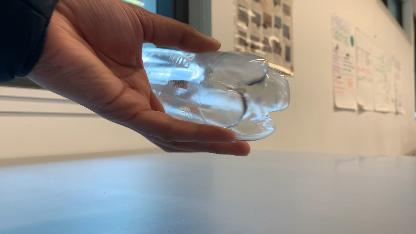Plastic Bottle: (139, 43, 291, 147)
